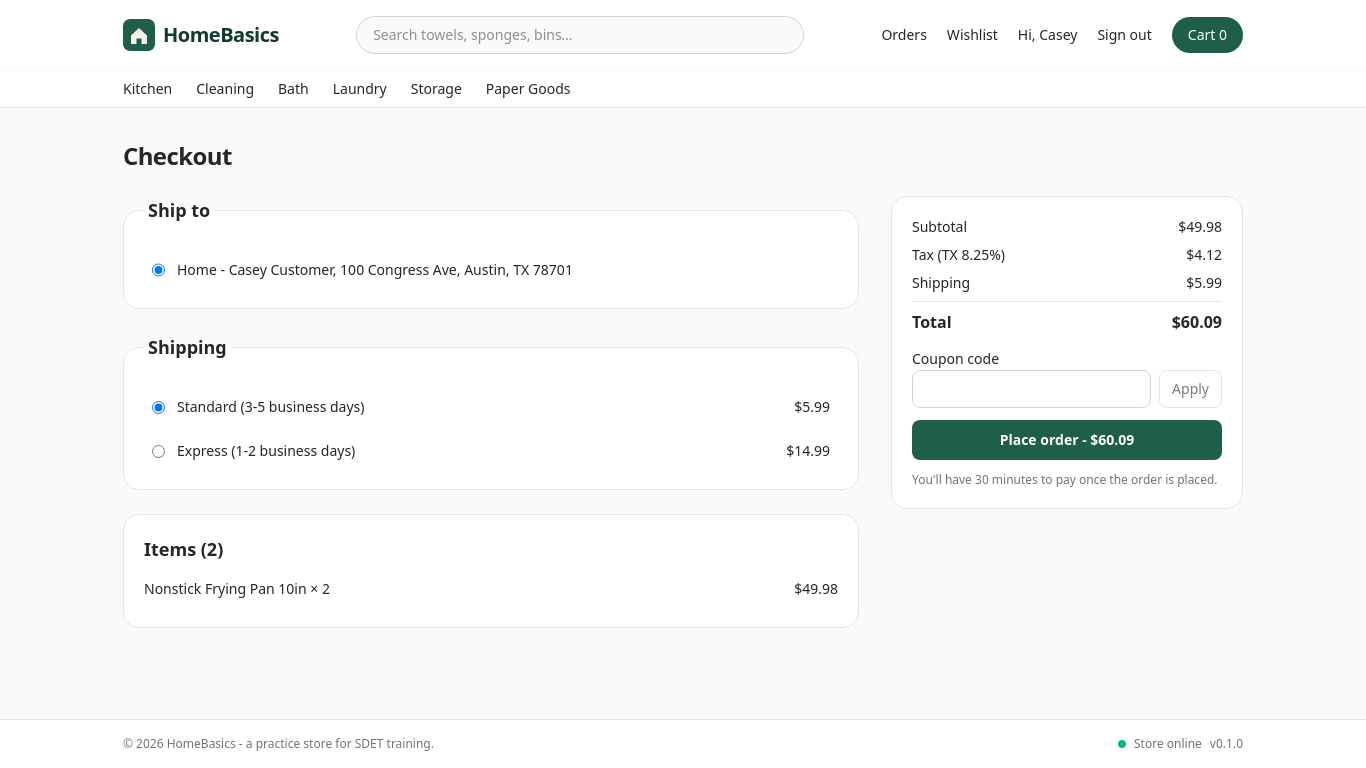
Test: Checkout coupons (CPN) › a rejected code explains why and keeps the old total
Expected: the text "$60.09" is shown, [1172,310,1222,334]
Step 1. Type "NOPE" into the field with test id "coupon-input" → point(1032, 389), box [912,370,1151,408]
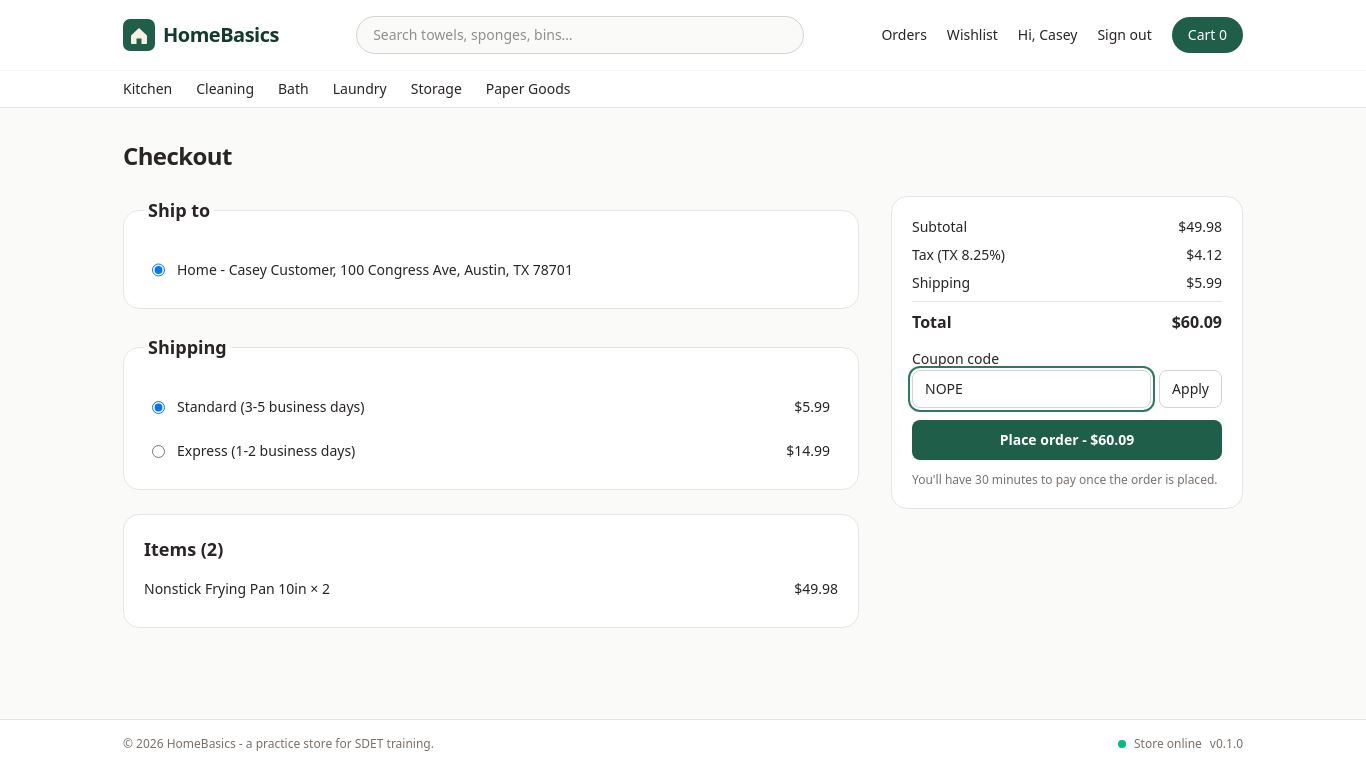
Step 2. Click the button with test id "coupon-apply" → point(1191, 389), box [1159,370,1222,408]
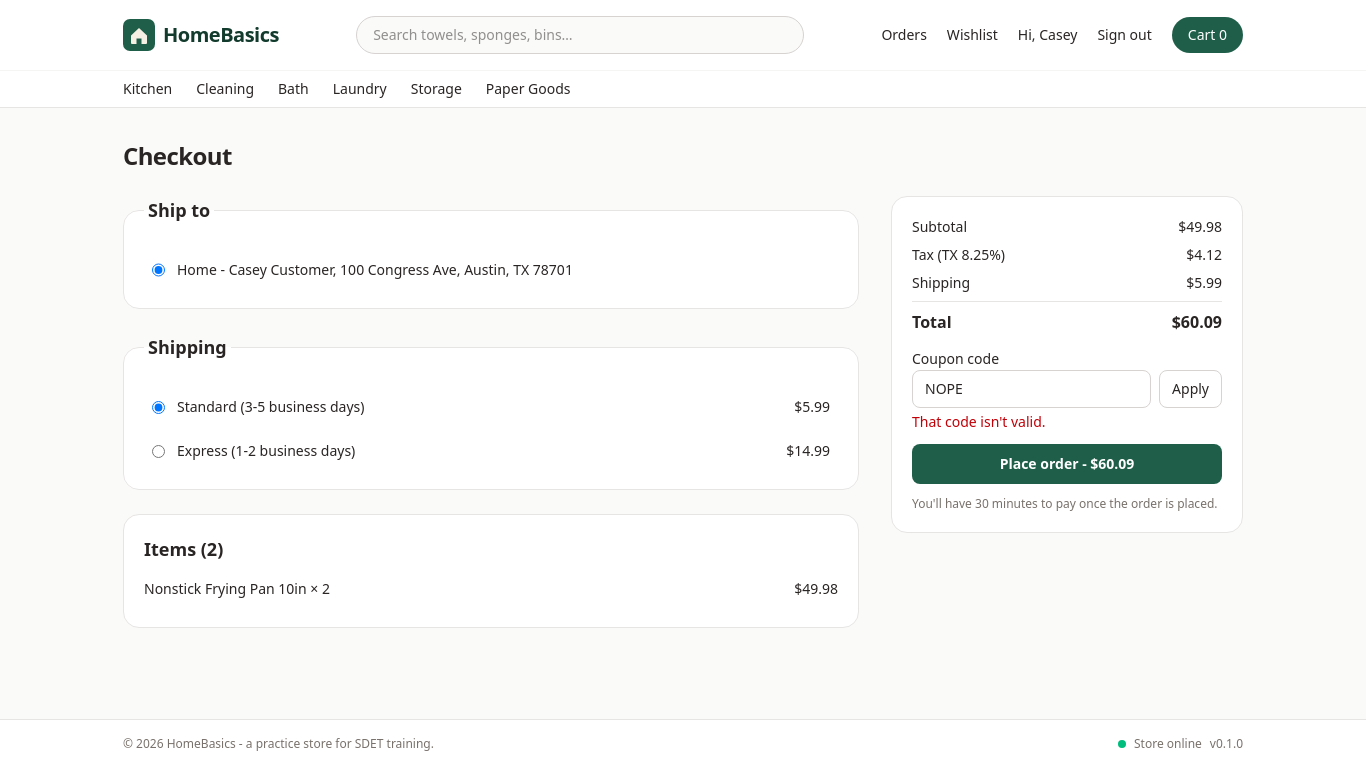
Expected: the text with test id "summary-total" reads "$60.09", [1172,311,1222,333]
Now the message with test id "coupon-error" reads "That code isn't valid.", box [912,412,1046,431]
